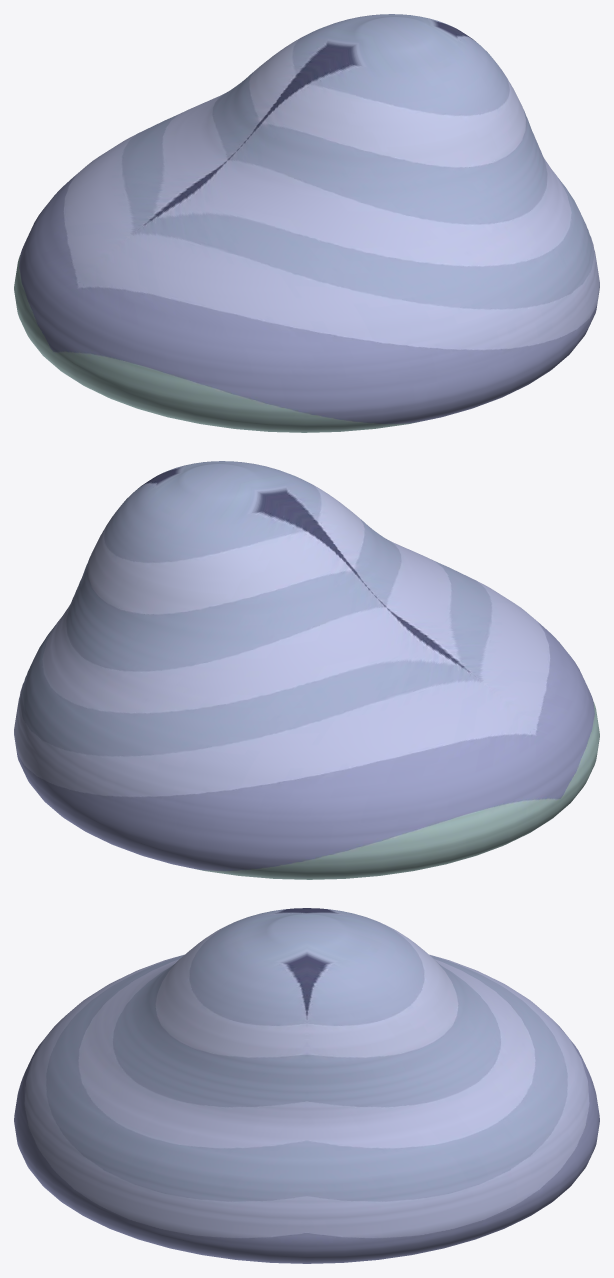
The model's file is purple_reef_rock.glb.
The picture shows the model from 3 angles, top to bottom: view 1: azimuth 30°, elevation 25°; view 2: azimuth 150°, elevation 25°; view 3: azimuth 270°, elevation 25°; orthographic projection.
Visible parts, largest first — view 1: purple_reef_rock; view 2: purple_reef_rock; view 3: purple_reef_rock.
Part boxes in pixels (x1,y1,x2,y2): purple_reef_rock: (14, 14, 599, 432); purple_reef_rock: (14, 461, 599, 879); purple_reef_rock: (14, 908, 599, 1263).
Size of the model in its own units: 1 by 0.5432 by 1.
Materials: 1 (1 with a texture image).
